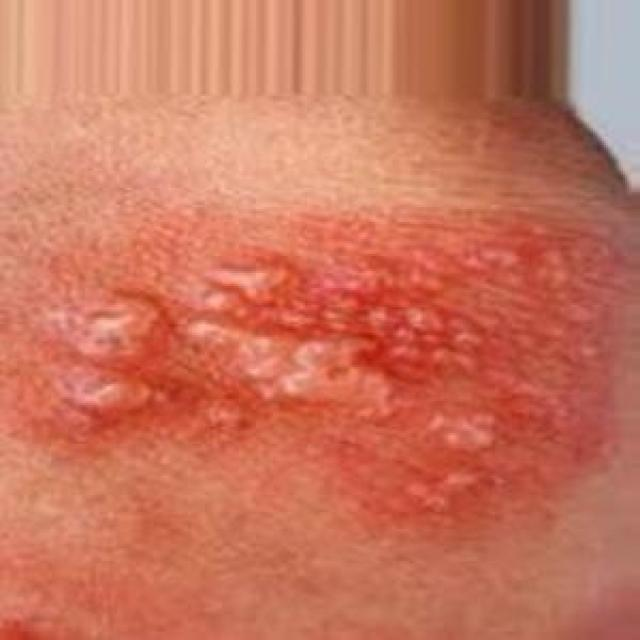Shingles: (46, 219, 584, 513)
